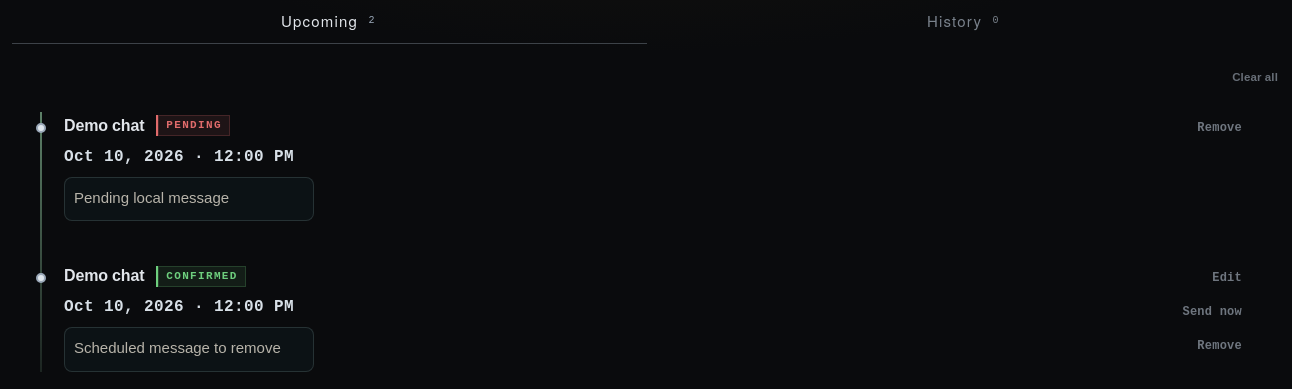
it: clear all pending messages › removes local pending items but keeps remote items whose cancel failed
What coordinates should you click on to do the following:
click the button "Clear all"
I would click on:
 (1255, 77)
Its box is [1228,67,1282,87].
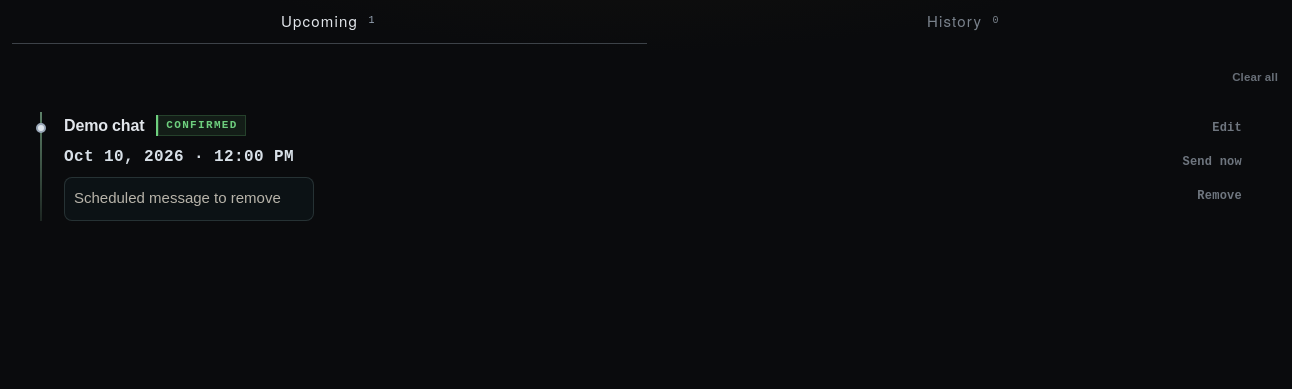
Expected: the text "Scheduled message to remove" is shown, [74,189,281,206]
Expected: the text "Pending local message" is gone
